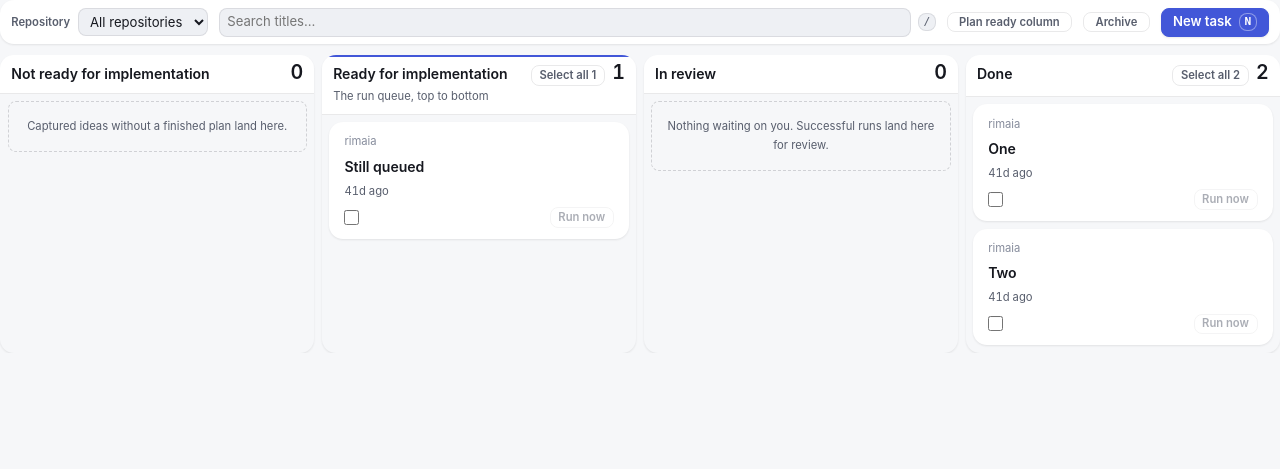
it: Board › picks a whole column, and clears it again
The image size is (1280, 469).
Click the button "Select all 2": (1210, 75) [1172,65,1248,86]
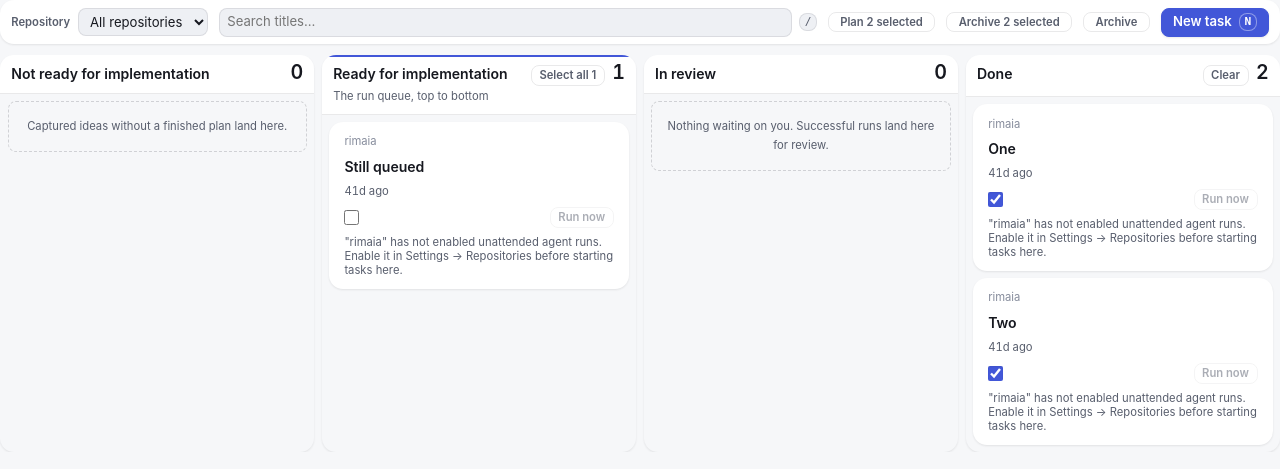
Now the button "Archive 2 selected" is shown, box [946,12,1072,32]
Click the button "Clear": (1226, 75) [1203,65,1248,86]
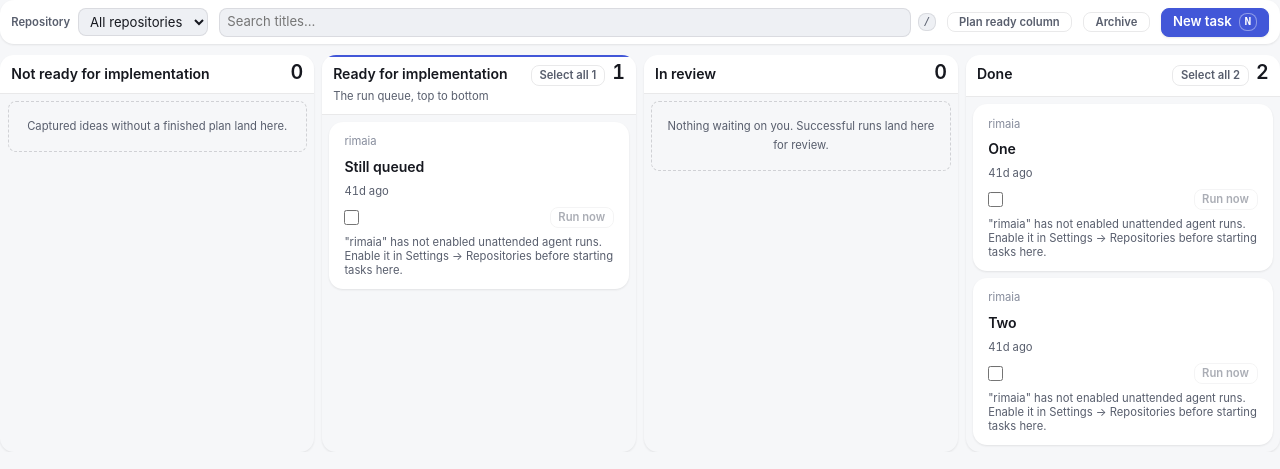
Now the button "Archive 2 selected" is gone
